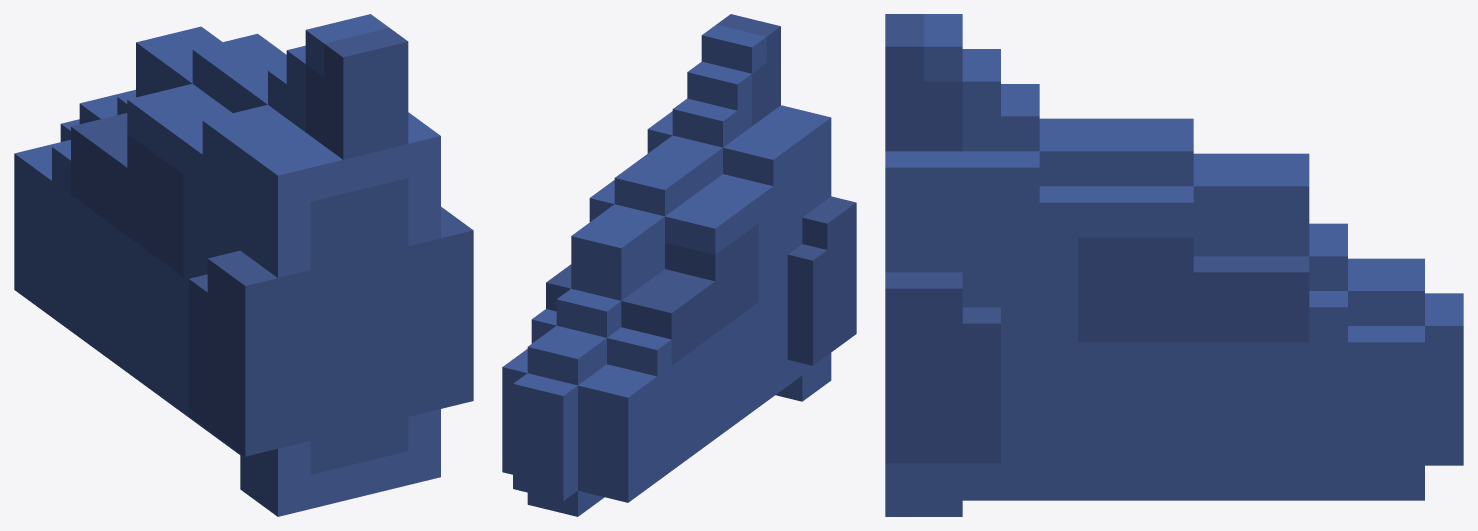
File: fish_1.obj
The picture shows the model from 3 angles, left to right: view 1: azimuth 30°, elevation 25°; view 2: azimuth 150°, elevation 25°; view 3: azimuth 270°, elevation 25°; orthographic projection. The views are drawn at different scales.
Size of the model in its own units: 0.7 by 1.3 by 1.5.
Materials: 1 (1 with a texture image).
